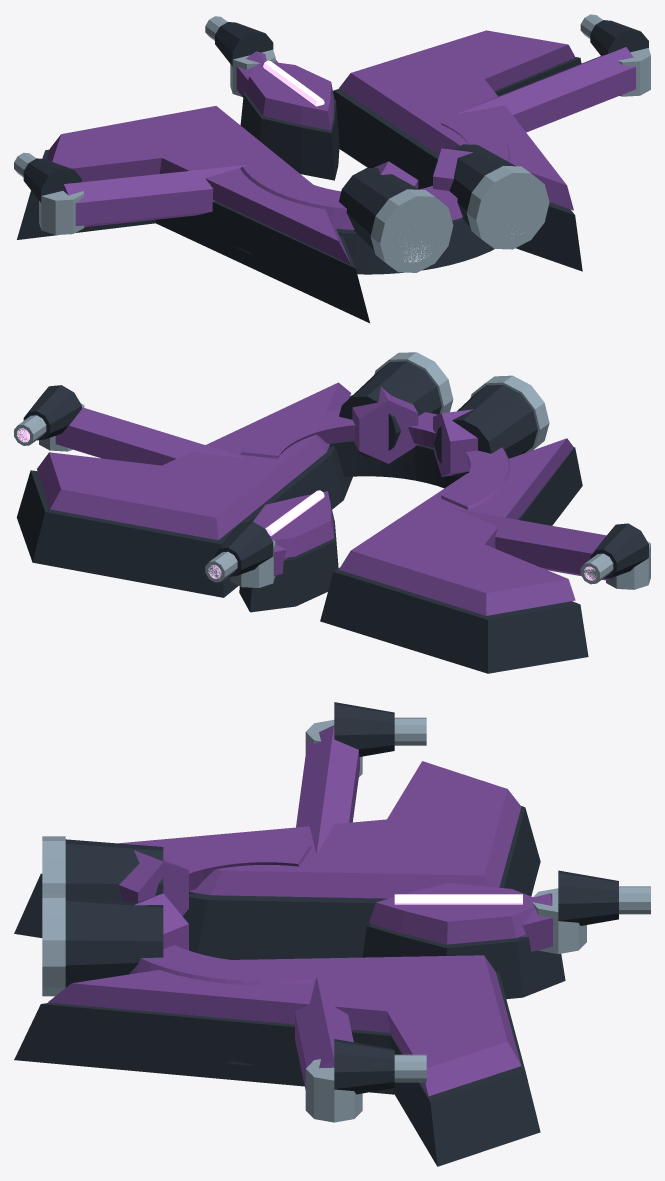
Rendered from c5_miniHarpy.glb.
3 renders of one model, top to bottom at view 1: azimuth 30°, elevation 25°; view 2: azimuth 150°, elevation 25°; view 3: azimuth 270°, elevation 25°, orthographic. The views are drawn at different scales.
Visible parts, largest first — view 1: miniHarpy / Armor, miniHarpy / Chassis, miniHarpy / Titanium, miniHarpy / Energy; view 2: miniHarpy / Armor, miniHarpy / Chassis, miniHarpy / Titanium, miniHarpy / Energy; view 3: miniHarpy / Armor, miniHarpy / Chassis, miniHarpy / Titanium, miniHarpy / Energy.
Part boxes in pixels (x1,y1,x2,y2): miniHarpy / Armor: (46,30,635,264); miniHarpy / Chassis: (17,20,648,323); miniHarpy / Titanium: (14,14,650,272); miniHarpy / Energy: (263,60,513,262); miniHarpy / Armor: (37,382,613,615); miniHarpy / Chassis: (16,361,648,673); miniHarpy / Titanium: (14,352,650,589); miniHarpy / Energy: (17,428,595,580); miniHarpy / Armor: (48,725,552,1096); miniHarpy / Chassis: (14,702,618,1166); miniHarpy / Titanium: (42,717,650,1122); miniHarpy / Energy: (394,894,522,904).
Size of the model in its own units: 2.4 by 0.395 by 1.79.
